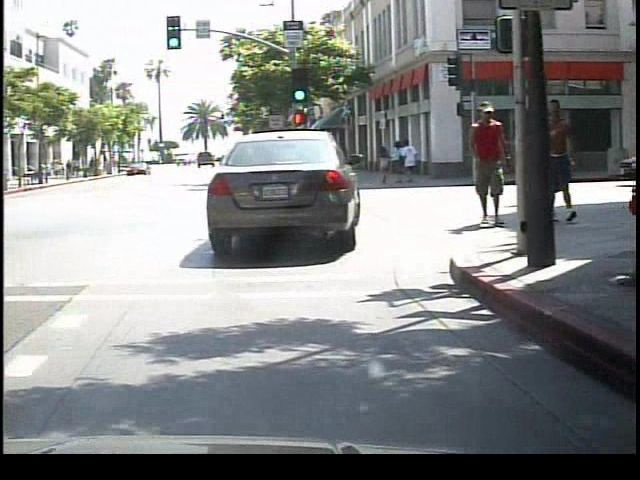person: (531, 96, 583, 230), (462, 99, 511, 230)
